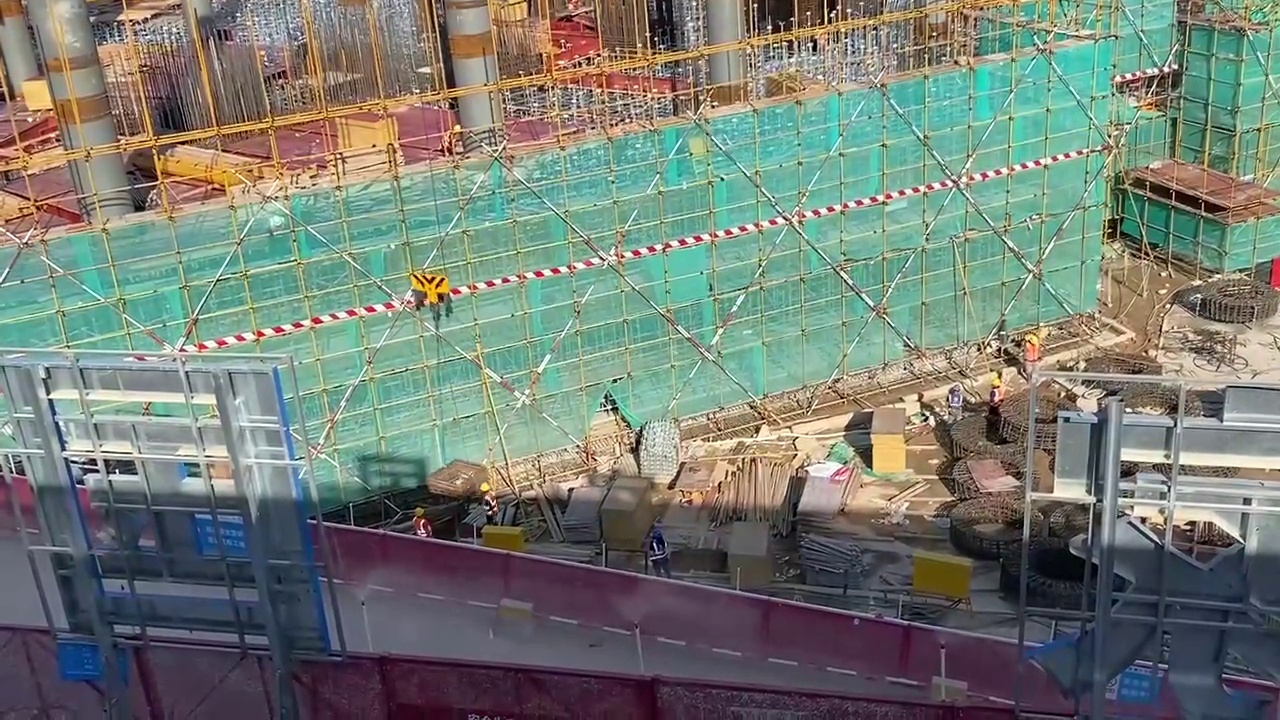board: (872, 408, 908, 470)
fence: (4, 624, 969, 720)
hook: (410, 275, 450, 304)
person: (471, 482, 505, 530), (648, 529, 675, 579), (411, 500, 433, 549)
wood: (723, 463, 795, 532)
